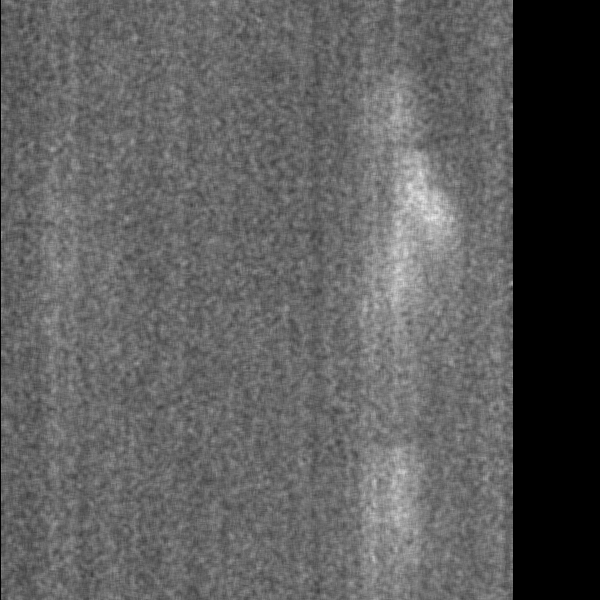spark: (47, 253, 75, 288)
